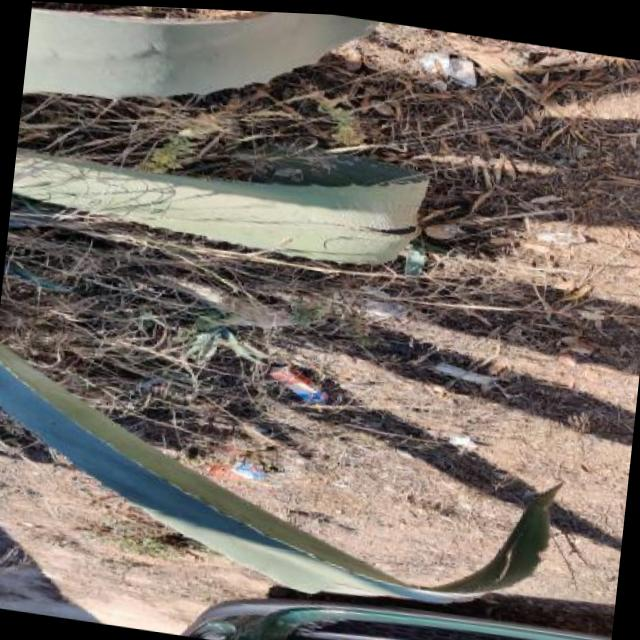cardboard: (266, 362, 332, 405), (204, 454, 271, 488)
